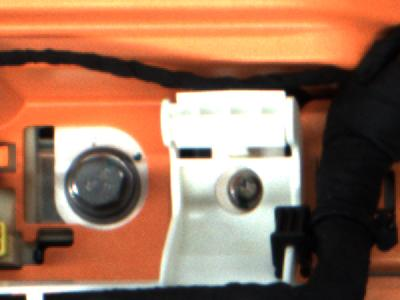nut_b: (54, 143, 152, 227)
